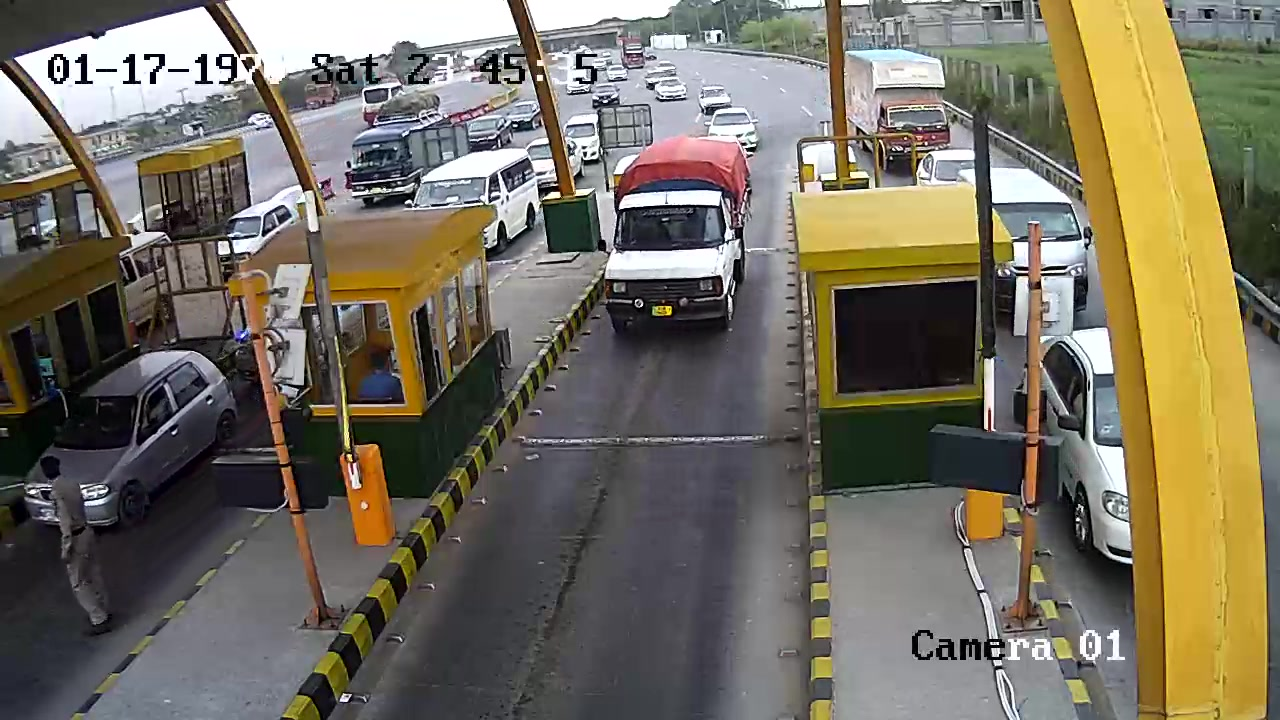F3: (607, 141, 750, 339)
